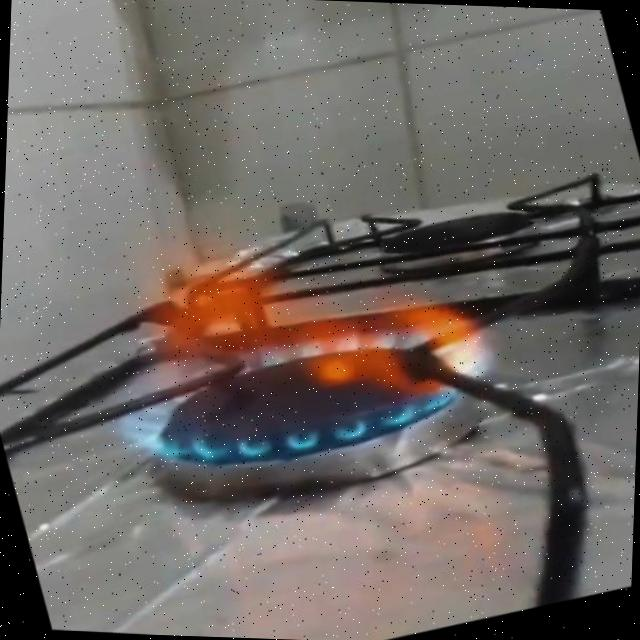fire: (45, 151, 535, 525)
